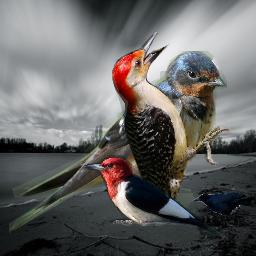Crow: (192, 192, 254, 215)
Swallow: (9, 51, 227, 234)
Woodpecker: (112, 32, 232, 215), (80, 155, 218, 238)
